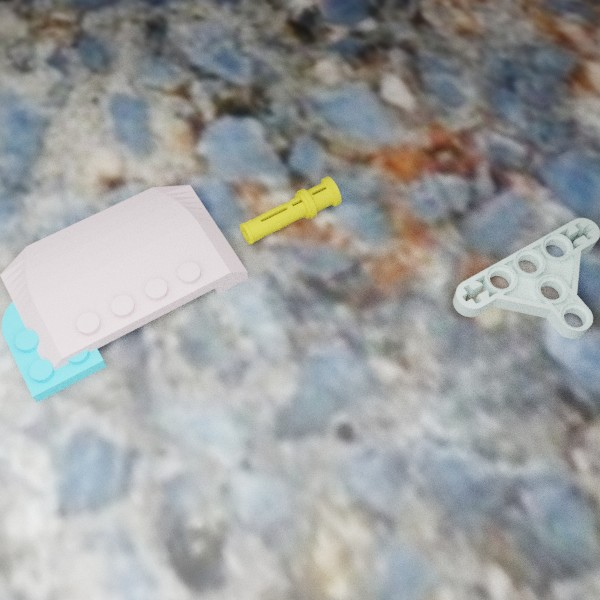lego: (0, 184, 248, 379), (453, 218, 600, 338), (1, 288, 106, 402), (239, 176, 341, 244)
